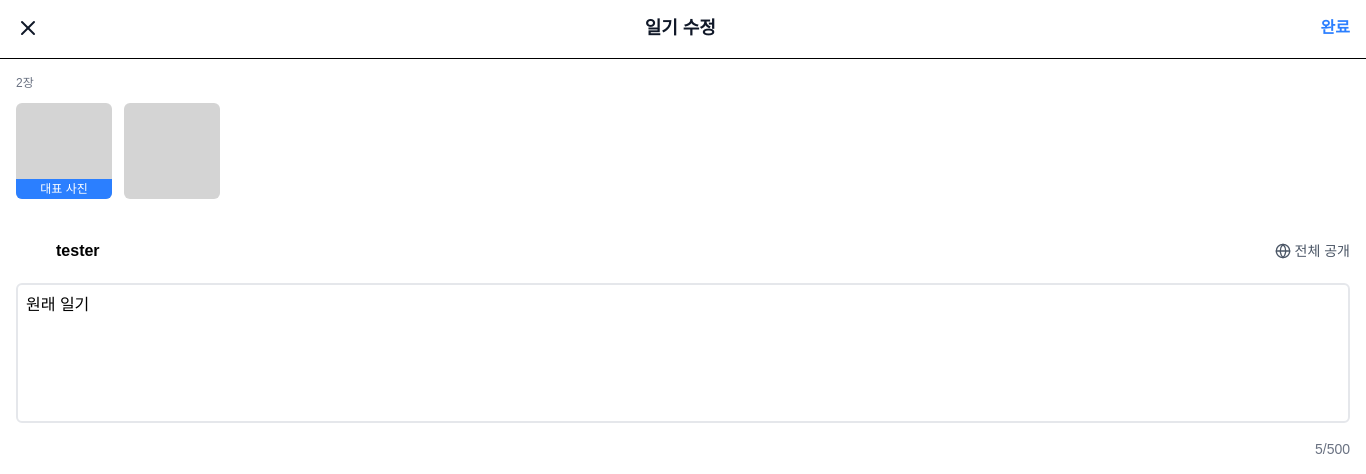
Test: DiaryEditForm › 저장 실패 시 페이지를 이동하지 않고 기존 수정 내용을 유지한 채 에러를 보여준다
Replace the text in the text box named "일기 내용" with "실패할 수정본". click: (683, 353)
box: top-left (16, 283), bottom-right (1350, 423)
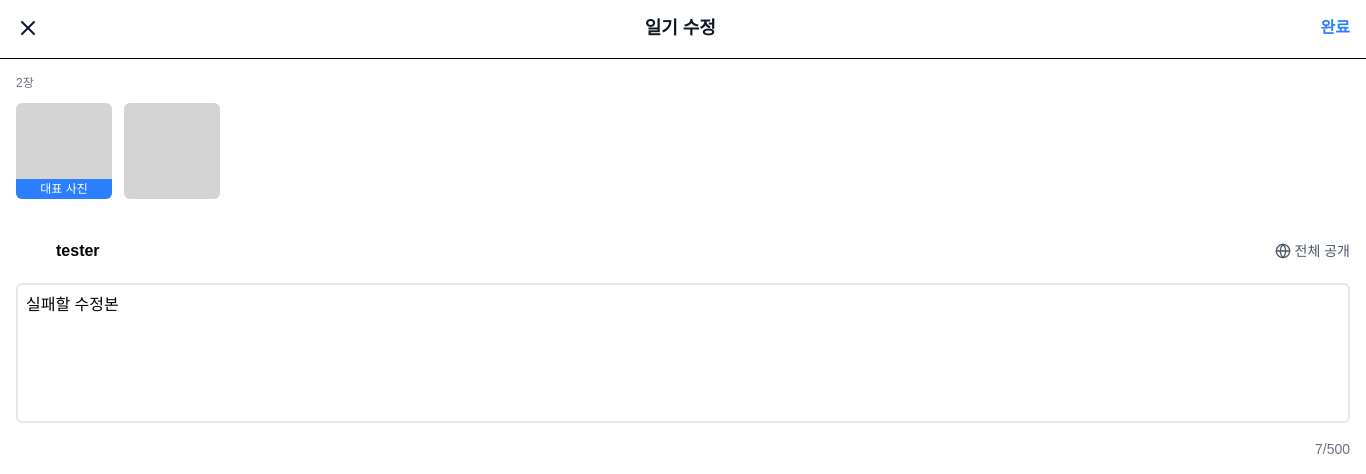
Click the button "완료". click: (1335, 28)
box: top-left (1320, 16), bottom-right (1350, 40)
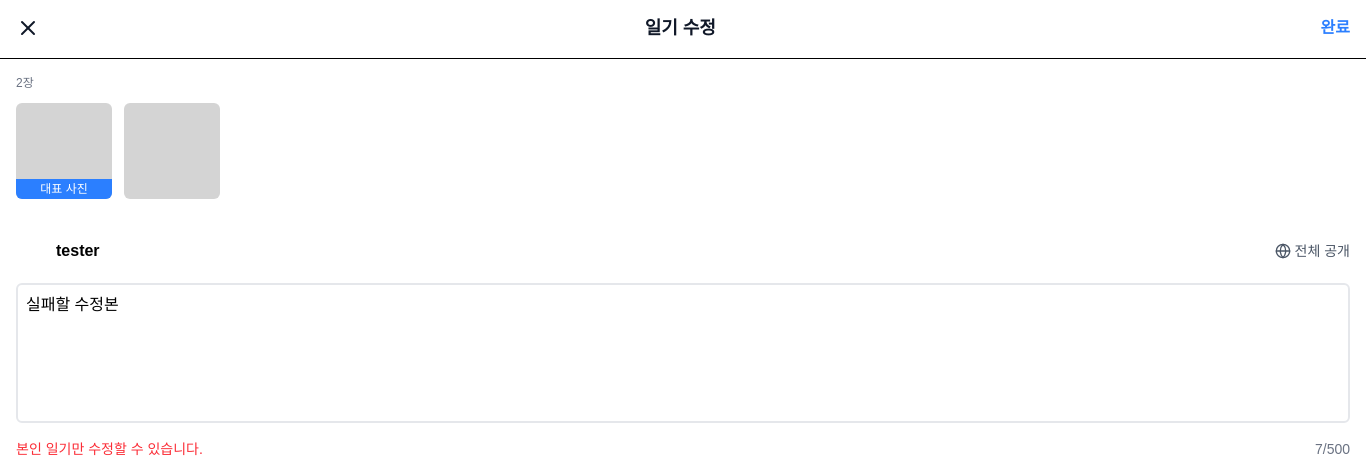
expect the text "본인 일기만 수정할 수 있습니다." is shown: met, box top-left (16, 441), bottom-right (203, 457)
